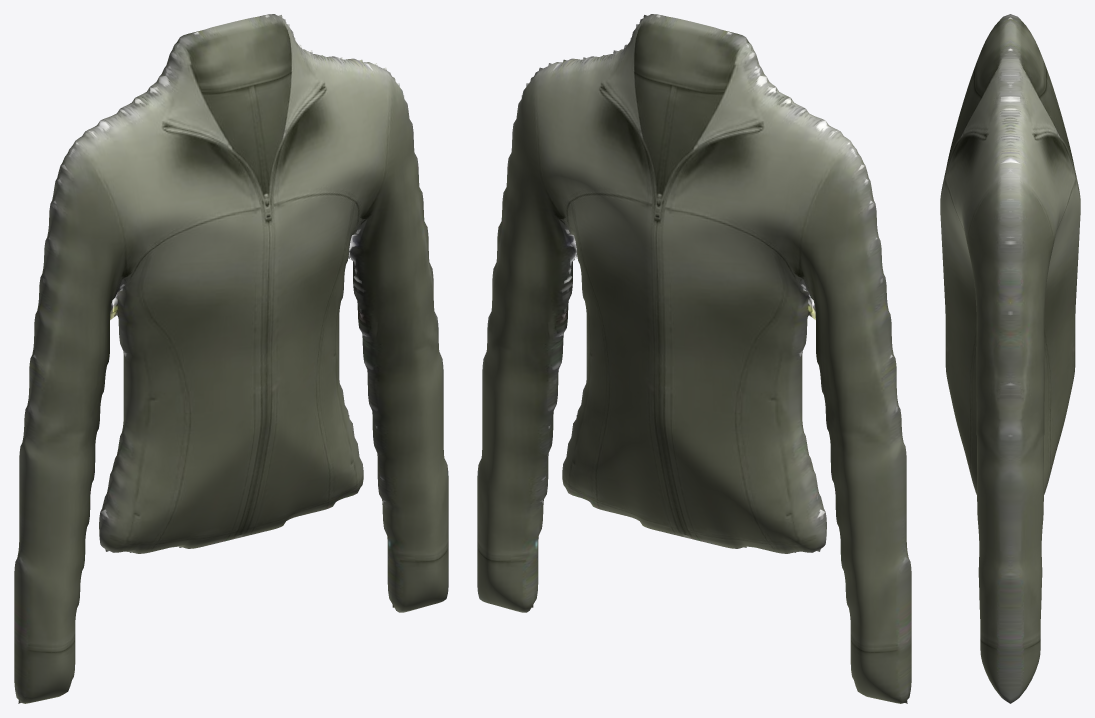
Rendered from prod-ae-sage-zip-jacket.glb.
The picture shows the model from 3 angles, left to right: view 1: azimuth 30°, elevation 25°; view 2: azimuth 150°, elevation 25°; view 3: azimuth 270°, elevation 25°; orthographic projection. The views are drawn at different scales.
Parts seen in each view (by area): view 1: prod-ae-sage-zip-jacket_standalone; view 2: prod-ae-sage-zip-jacket_standalone; view 3: prod-ae-sage-zip-jacket_standalone.
Boxes of the visible parts, bbox=[...] form: prod-ae-sage-zip-jacket_standalone: bbox=[14, 14, 448, 703]; prod-ae-sage-zip-jacket_standalone: bbox=[477, 14, 911, 703]; prod-ae-sage-zip-jacket_standalone: bbox=[940, 14, 1080, 703].
Size of the model in its own units: 0.3664 by 0.5191 by 0.1142.
Materials: 1 (1 with a texture image).
